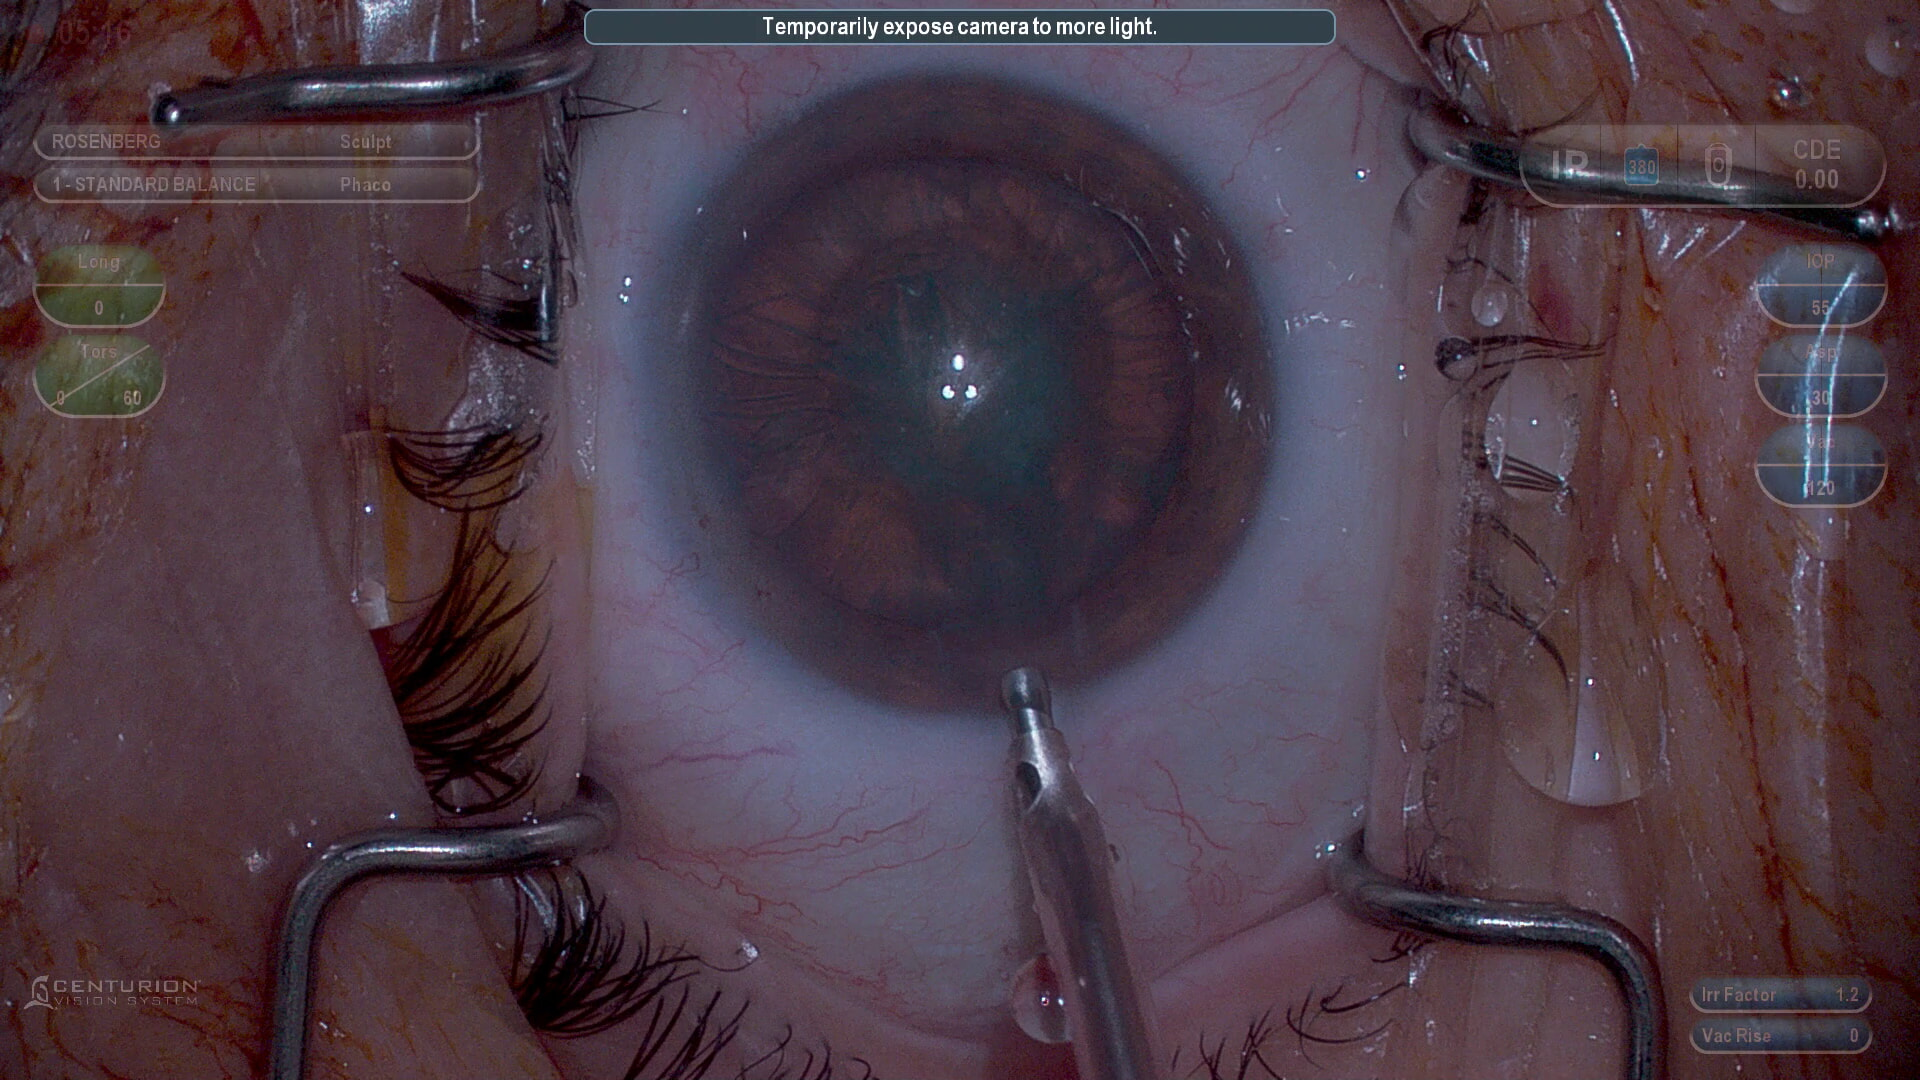iris: (650, 72, 1284, 728)
pupil: (718, 160, 1189, 629)
